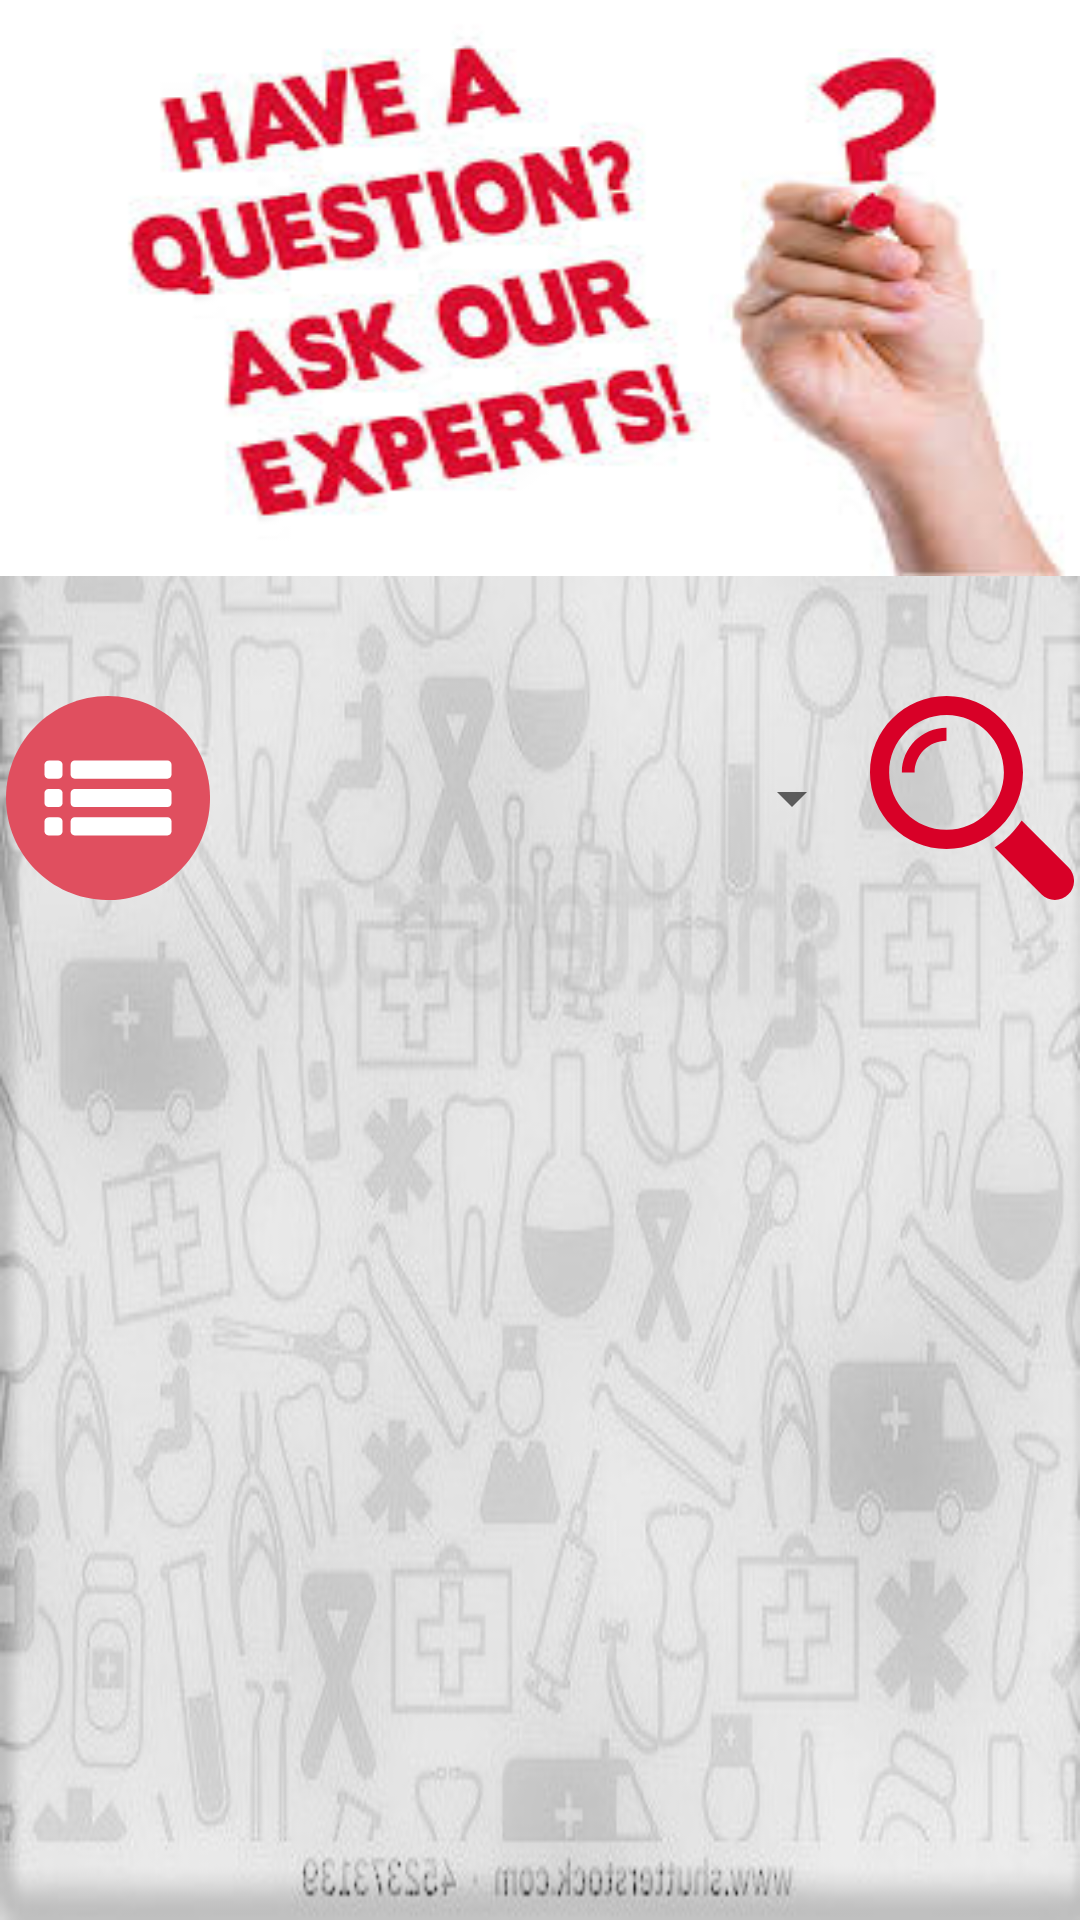

Icon click points for this 1080 × 1920 phone screenshot, format (x,y):
list: (106,798)
magnifier: (972,798)
